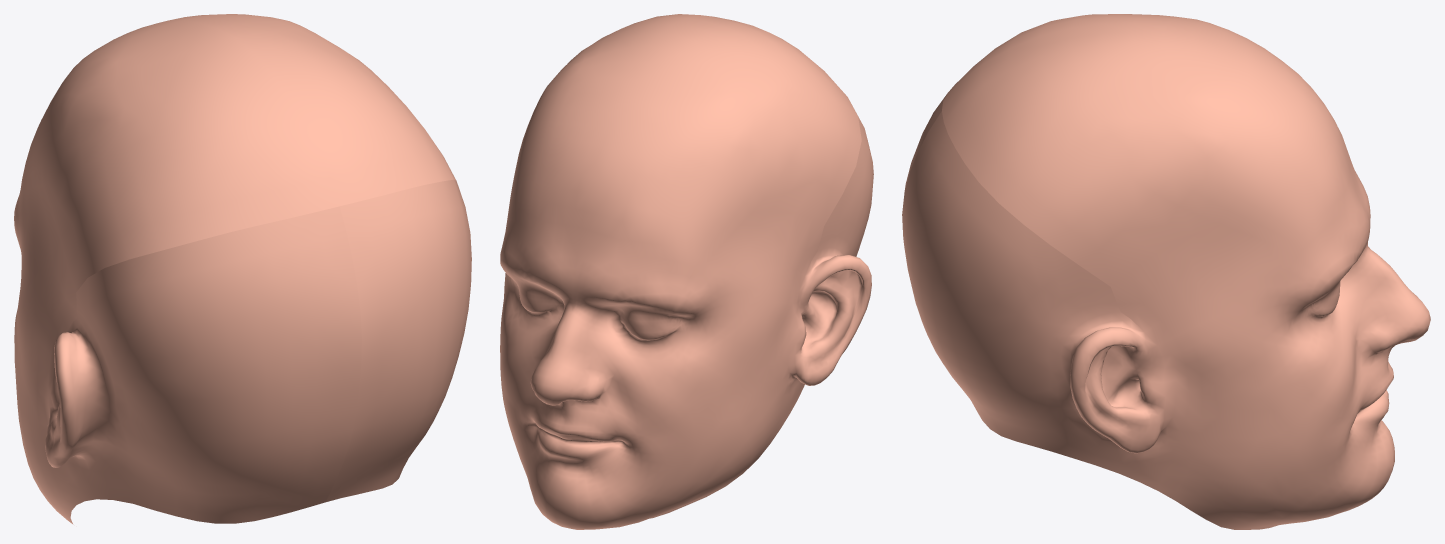
File: head.glb
3 renders of one model, left to right at view 1: azimuth 30°, elevation 25°; view 2: azimuth 150°, elevation 25°; view 3: azimuth 270°, elevation 25°, orthographic. The views are drawn at different scales.
Visible parts, largest first — view 1: occlusion_mesh; view 2: occlusion_mesh; view 3: occlusion_mesh.
Boxes of the visible parts, x1,y1,x2,y2 form: occlusion_mesh: (14, 14, 471, 524); occlusion_mesh: (500, 14, 873, 529); occlusion_mesh: (902, 14, 1430, 529).
Size of the model in its own units: 163 by 206 by 205.
